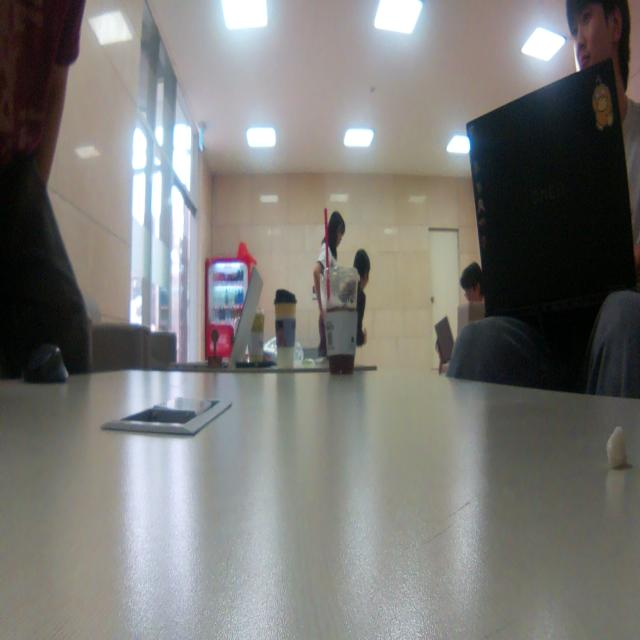target: (210, 329, 222, 370)
